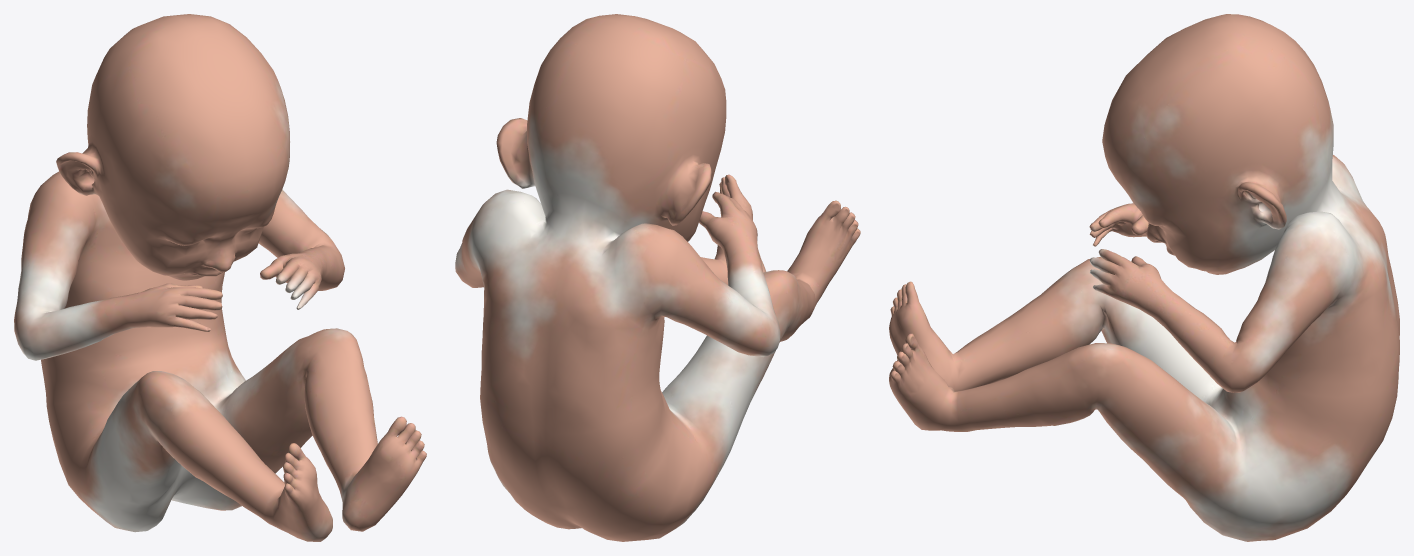
3 views of the same model, side by side, from view 1: azimuth 30°, elevation 25°; view 2: azimuth 150°, elevation 25°; view 3: azimuth 270°, elevation 25° (orthographic).
Parts seen in each view (by area): view 1: Baby; view 2: Baby; view 3: Baby.
Boxes of the visible parts, box(x1,y1,x2,y2) form: Baby: box(14, 14, 426, 541); Baby: box(455, 14, 860, 541); Baby: box(889, 14, 1399, 541).
Size of the model in its own units: 0.2328 by 0.3478 by 0.3253.
1 material, 1 textured.
